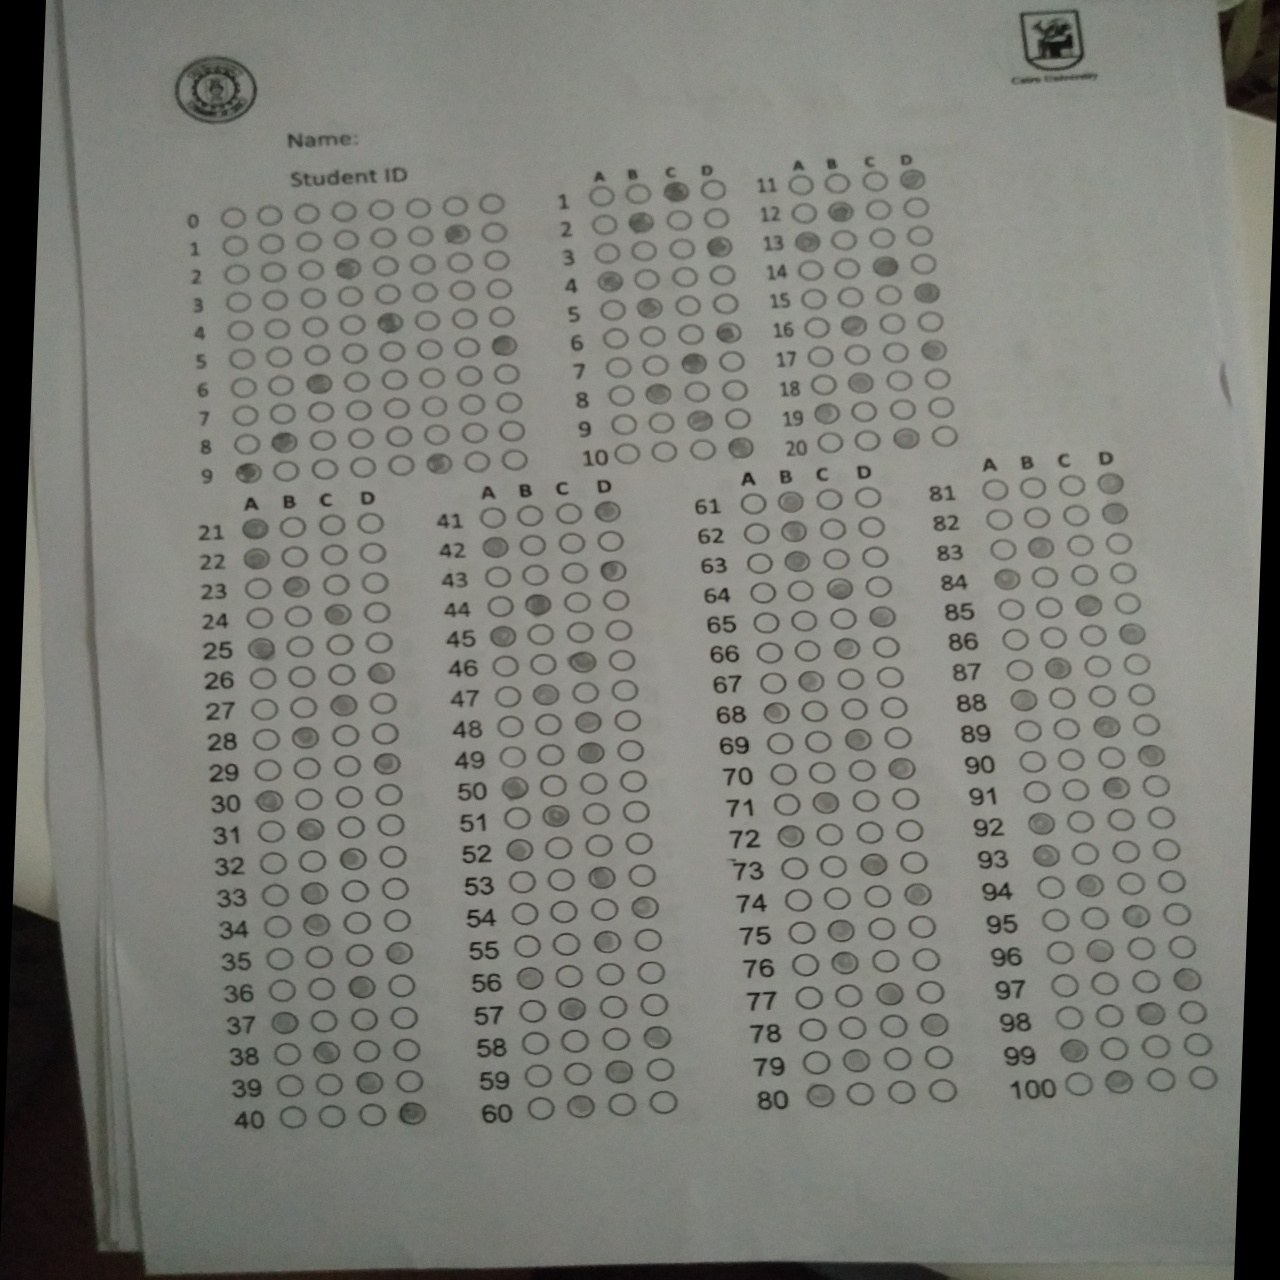not-c: (799, 1050, 835, 1080), (1166, 933, 1199, 964), (1069, 838, 1102, 869), (1119, 651, 1152, 681), (561, 1058, 595, 1088), (908, 946, 942, 975), (913, 979, 947, 1008), (921, 1043, 955, 1073), (925, 1076, 959, 1105), (885, 1077, 919, 1107), (1092, 1002, 1126, 1032), (1049, 971, 1083, 1000), (1039, 906, 1073, 935), (1109, 837, 1143, 866), (1177, 998, 1211, 1027), (1185, 1063, 1219, 1092), (1144, 1065, 1178, 1095), (1092, 743, 1126, 772), (1049, 714, 1083, 743), (1080, 652, 1114, 681), (1085, 682, 1119, 712), (998, 625, 1032, 654), (1036, 624, 1070, 653), (1058, 502, 1092, 531), (261, 912, 294, 941), (611, 706, 644, 735), (561, 588, 594, 618), (721, 406, 754, 435), (907, 913, 940, 942), (876, 1012, 908, 1041), (844, 1080, 877, 1109), (1080, 904, 1112, 933), (1141, 1032, 1173, 1061), (1141, 772, 1173, 802), (1058, 775, 1091, 804), (1055, 745, 1088, 775), (1125, 682, 1158, 712), (1064, 530, 1097, 559), (1068, 560, 1101, 590), (1030, 563, 1063, 592), (1020, 505, 1053, 535), (324, 631, 358, 659), (247, 665, 281, 693), (256, 849, 290, 877), (339, 878, 373, 906), (304, 974, 338, 1002), (644, 1056, 678, 1084), (634, 959, 668, 987), (510, 932, 544, 960), (622, 829, 656, 857), (617, 768, 651, 796), (576, 769, 610, 797), (535, 741, 568, 769), (605, 646, 639, 674), (556, 529, 590, 557), (523, 620, 557, 648), (493, 714, 527, 742), (568, 678, 602, 706), (558, 560, 592, 588), (604, 381, 638, 409), (602, 354, 636, 382), (599, 325, 633, 353), (779, 886, 813, 914), (864, 915, 898, 944), (791, 983, 825, 1012), (795, 1016, 829, 1044), (881, 1044, 915, 1073), (1097, 1036, 1131, 1064), (1042, 939, 1076, 967), (1160, 901, 1194, 930), (1115, 869, 1149, 897), (1150, 836, 1184, 864), (1180, 1032, 1214, 1060), (1144, 804, 1178, 832), (1016, 747, 1050, 775), (1076, 622, 1110, 651), (1110, 590, 1144, 618), (1107, 561, 1141, 590), (1103, 531, 1137, 559), (1056, 472, 1090, 501), (978, 476, 1012, 504), (335, 783, 367, 812), (1017, 474, 1049, 503), (361, 629, 394, 658), (284, 663, 316, 692), (287, 693, 320, 721), (329, 722, 362, 750), (370, 719, 403, 747), (367, 690, 400, 719), (373, 781, 406, 809), (374, 812, 407, 840), (377, 874, 410, 903), (342, 942, 375, 971), (302, 942, 335, 971), (264, 946, 297, 974), (306, 1008, 339, 1036), (271, 1041, 304, 1069), (313, 1071, 346, 1099), (315, 1101, 348, 1129), (355, 1101, 388, 1129), (600, 1026, 633, 1054), (633, 926, 666, 954), (552, 962, 585, 990), (547, 898, 580, 926), (508, 900, 540, 928), (581, 799, 614, 828), (620, 798, 653, 826), (497, 743, 530, 771), (600, 587, 633, 615), (594, 526, 627, 554), (527, 651, 560, 679), (477, 503, 510, 531), (736, 490, 769, 518), (611, 441, 644, 469), (681, 377, 714, 406), (591, 240, 624, 268), (584, 184, 617, 212), (621, 181, 654, 209), (785, 918, 818, 946), (870, 947, 903, 975), (789, 951, 822, 979), (833, 982, 866, 1010), (1089, 969, 1122, 998), (1054, 1005, 1087, 1033), (1124, 934, 1157, 962), (1105, 806, 1138, 835), (1020, 779, 1053, 808), (1064, 808, 1097, 836), (1012, 717, 1044, 745), (1003, 656, 1036, 685), (1046, 685, 1078, 713), (1032, 593, 1064, 621), (996, 595, 1029, 624), (986, 536, 1019, 564), (985, 506, 1017, 535), (282, 633, 316, 660), (248, 726, 282, 753), (256, 818, 290, 845), (350, 1039, 384, 1065), (275, 1104, 309, 1131), (604, 1091, 638, 1118), (516, 998, 550, 1024), (549, 930, 583, 956), (588, 897, 622, 924), (544, 867, 578, 894), (542, 835, 576, 862), (518, 561, 552, 588), (484, 594, 518, 621), (515, 503, 549, 530), (719, 377, 753, 404), (1062, 1073, 1096, 1099), (1129, 712, 1163, 738), (341, 908, 373, 937), (383, 972, 415, 1000), (349, 1006, 381, 1034), (639, 990, 670, 1019), (517, 532, 549, 560), (837, 1015, 869, 1043), (1036, 874, 1068, 903), (1130, 967, 1162, 995), (325, 661, 358, 688), (248, 696, 281, 723), (290, 755, 322, 782), (331, 753, 363, 779), (294, 787, 327, 813), (334, 815, 367, 842), (376, 843, 409, 870), (258, 881, 291, 908), (381, 908, 414, 935), (265, 978, 298, 1005), (388, 1005, 421, 1032), (390, 1037, 423, 1064), (393, 1069, 425, 1096), (524, 1095, 557, 1122), (522, 1063, 554, 1090), (558, 1027, 591, 1054), (519, 1032, 552, 1058), (598, 994, 631, 1021), (593, 961, 626, 988), (506, 869, 539, 896), (625, 863, 658, 890), (583, 833, 615, 860), (502, 804, 535, 831), (615, 738, 648, 765), (602, 617, 635, 644), (532, 712, 565, 738), (489, 653, 522, 680), (552, 501, 585, 527), (686, 436, 719, 463), (647, 440, 680, 467), (607, 413, 640, 440), (645, 410, 678, 437), (587, 211, 620, 238), (876, 311, 908, 338), (1156, 869, 1189, 896), (345, 425, 376, 452), (318, 542, 349, 568), (252, 757, 284, 784), (295, 847, 327, 874), (275, 1073, 307, 1099), (648, 1090, 680, 1117), (538, 772, 570, 799), (608, 678, 640, 704), (492, 683, 524, 710), (564, 620, 595, 647), (483, 564, 515, 591), (598, 297, 629, 324), (666, 236, 697, 263), (668, 263, 700, 290), (809, 372, 840, 399), (828, 227, 860, 253), (740, 520, 772, 546), (745, 581, 778, 607), (767, 761, 799, 787), (266, 372, 297, 399), (457, 392, 488, 418), (277, 515, 307, 542), (874, 282, 905, 309), (832, 256, 863, 282), (922, 365, 953, 392), (849, 399, 879, 425), (813, 488, 844, 515), (791, 636, 822, 663), (798, 699, 829, 726), (806, 760, 837, 787), (292, 230, 324, 256), (257, 261, 288, 287), (231, 431, 263, 457), (278, 544, 309, 570), (700, 204, 731, 230), (631, 266, 662, 292), (707, 263, 738, 288), (672, 293, 703, 319), (639, 353, 670, 379), (797, 285, 829, 311), (836, 284, 867, 309), (908, 252, 940, 278), (905, 223, 937, 248), (795, 257, 826, 282), (789, 200, 821, 226), (879, 340, 911, 366), (851, 428, 883, 454), (801, 315, 832, 341), (840, 341, 872, 367), (815, 429, 846, 455), (816, 516, 847, 542), (855, 515, 886, 540), (863, 574, 894, 600), (788, 608, 819, 634), (871, 634, 903, 660), (754, 640, 785, 666), (835, 666, 866, 692), (802, 728, 833, 754), (763, 731, 795, 757), (881, 726, 913, 751), (890, 787, 921, 812), (815, 822, 846, 847), (816, 855, 847, 880), (821, 885, 852, 911), (224, 290, 253, 316), (291, 200, 321, 226), (481, 247, 511, 273), (409, 279, 440, 305), (380, 368, 410, 394), (264, 345, 294, 370), (421, 422, 451, 448), (493, 390, 524, 416), (459, 420, 490, 445), (386, 452, 416, 478), (308, 457, 339, 483), (316, 512, 347, 538), (241, 576, 272, 601), (282, 604, 313, 629), (245, 605, 275, 631), (697, 176, 728, 202), (663, 206, 694, 232), (628, 237, 659, 263), (712, 291, 742, 316), (636, 324, 667, 349), (674, 322, 704, 348), (715, 349, 745, 375), (865, 196, 896, 222), (787, 172, 817, 198), (859, 170, 890, 196), (915, 308, 946, 334), (884, 368, 914, 394), (887, 395, 918, 421), (926, 394, 956, 420), (928, 422, 959, 448), (805, 343, 836, 369), (851, 485, 881, 511), (819, 546, 850, 572), (859, 544, 890, 570), (784, 579, 815, 605), (750, 611, 781, 636), (757, 669, 788, 695), (878, 694, 908, 720), (846, 758, 877, 784), (771, 792, 802, 818), (894, 817, 925, 843), (853, 821, 884, 846), (778, 856, 809, 881), (898, 850, 928, 876), (862, 884, 892, 910), (217, 204, 248, 229), (366, 197, 397, 222), (476, 192, 508, 217), (305, 401, 336, 425), (462, 449, 493, 474), (485, 275, 515, 301), (486, 302, 516, 328), (445, 250, 475, 275), (338, 312, 367, 338), (263, 316, 292, 342), (223, 263, 252, 288), (226, 347, 256, 373), (497, 418, 526, 444), (349, 454, 379, 479), (355, 510, 384, 536), (901, 195, 931, 220), (869, 225, 898, 251), (745, 551, 775, 577), (874, 663, 904, 689), (839, 696, 869, 722), (852, 788, 881, 813), (440, 195, 470, 219), (449, 306, 479, 331), (448, 278, 478, 302), (407, 253, 437, 278), (404, 225, 435, 250), (368, 225, 399, 250), (372, 282, 402, 307), (411, 308, 442, 333), (414, 338, 444, 362), (454, 363, 484, 388), (377, 340, 408, 365), (331, 229, 361, 253), (298, 286, 328, 311), (300, 314, 331, 339), (259, 290, 290, 314), (220, 234, 251, 259), (224, 319, 254, 343), (229, 376, 259, 401), (230, 403, 260, 428), (307, 428, 338, 452), (343, 399, 374, 423), (381, 395, 411, 420), (420, 395, 450, 420), (270, 459, 300, 484), (360, 571, 390, 595), (821, 172, 851, 197), (828, 607, 858, 632), (404, 196, 433, 222), (452, 334, 481, 360), (418, 365, 447, 390), (336, 284, 365, 309), (501, 447, 529, 472), (254, 203, 284, 227), (331, 200, 360, 225), (479, 220, 509, 245), (491, 362, 520, 387), (295, 258, 325, 282), (302, 341, 332, 366), (257, 231, 286, 256), (267, 401, 297, 425), (342, 370, 372, 395), (384, 424, 414, 449), (358, 540, 387, 565), (321, 572, 350, 597), (338, 342, 368, 366), (363, 601, 392, 626), (370, 256, 399, 279)
taken-c: (843, 368, 877, 397), (422, 449, 456, 478), (354, 1069, 387, 1098), (811, 400, 844, 429), (554, 995, 588, 1023), (244, 635, 278, 663), (320, 600, 354, 628), (900, 880, 934, 908), (829, 949, 863, 978), (872, 981, 906, 1009), (803, 1082, 837, 1110), (1133, 1000, 1167, 1028), (1170, 966, 1204, 994), (1024, 810, 1058, 838), (1099, 775, 1133, 803), (1133, 741, 1167, 769), (1006, 687, 1040, 715), (1041, 653, 1075, 681), (990, 567, 1024, 595), (1092, 470, 1126, 498), (869, 253, 903, 281), (824, 198, 858, 226), (896, 166, 930, 195), (624, 207, 658, 236), (704, 233, 738, 261), (632, 294, 666, 322), (642, 381, 676, 409), (683, 406, 717, 434), (486, 333, 520, 361), (563, 1092, 595, 1121), (311, 1039, 343, 1067), (295, 816, 328, 844), (253, 788, 286, 816), (288, 724, 321, 753), (238, 544, 271, 572), (238, 515, 271, 543), (857, 849, 890, 877), (918, 1010, 951, 1039), (839, 1047, 872, 1075), (1058, 1037, 1091, 1065), (1102, 1068, 1135, 1096), (1075, 873, 1108, 901), (1030, 842, 1063, 870), (1090, 714, 1123, 742), (1024, 535, 1057, 563), (911, 280, 944, 308), (794, 229, 826, 257), (659, 178, 692, 206), (594, 267, 627, 295), (713, 320, 745, 348), (723, 435, 756, 463), (231, 458, 264, 486), (268, 429, 301, 457), (302, 370, 335, 399), (373, 309, 406, 338), (512, 964, 546, 990), (602, 1058, 636, 1085), (297, 881, 331, 908), (336, 846, 370, 873), (365, 660, 399, 687), (772, 822, 806, 849), (1115, 620, 1149, 647), (1073, 593, 1107, 620), (888, 425, 922, 452), (915, 338, 949, 365), (838, 314, 872, 341), (331, 256, 365, 282), (825, 917, 857, 945), (678, 350, 709, 379), (584, 864, 617, 891), (628, 894, 661, 921), (591, 930, 624, 956), (641, 1024, 674, 1051), (396, 1099, 429, 1126), (267, 1010, 300, 1037), (345, 973, 377, 1000), (383, 940, 416, 967), (299, 912, 332, 939), (372, 751, 404, 778), (327, 693, 360, 720), (760, 699, 792, 726), (842, 726, 874, 753), (1084, 938, 1117, 965), (1121, 903, 1153, 930), (1098, 501, 1131, 527), (440, 222, 472, 248), (280, 574, 312, 601), (824, 576, 856, 602), (486, 622, 519, 648), (565, 651, 598, 676), (781, 550, 813, 576), (830, 636, 863, 662), (479, 535, 511, 560), (530, 682, 561, 708), (499, 775, 531, 801), (540, 803, 572, 829), (503, 837, 535, 863), (775, 489, 806, 515), (865, 604, 897, 629), (885, 756, 917, 782), (597, 559, 629, 584), (522, 592, 554, 617), (572, 709, 605, 734), (795, 670, 828, 695), (592, 499, 624, 524), (576, 741, 607, 765), (810, 791, 842, 816), (779, 520, 810, 545)
